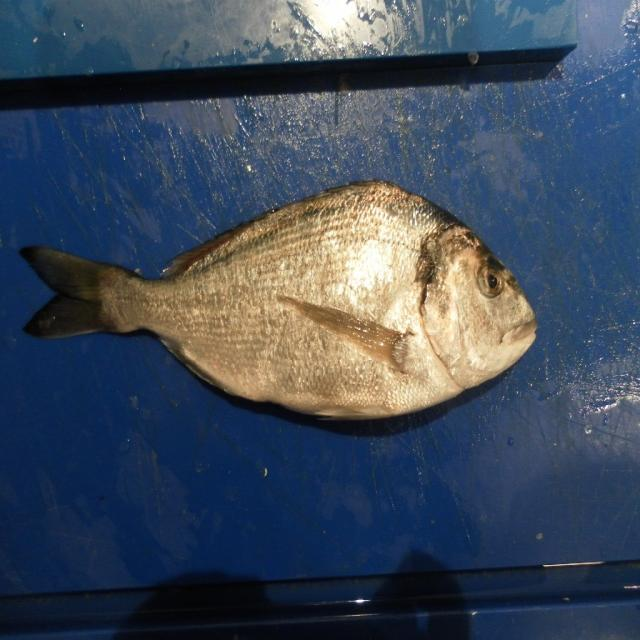Gilt-Head-Bream-c-ipura-: (19, 181, 538, 425)
